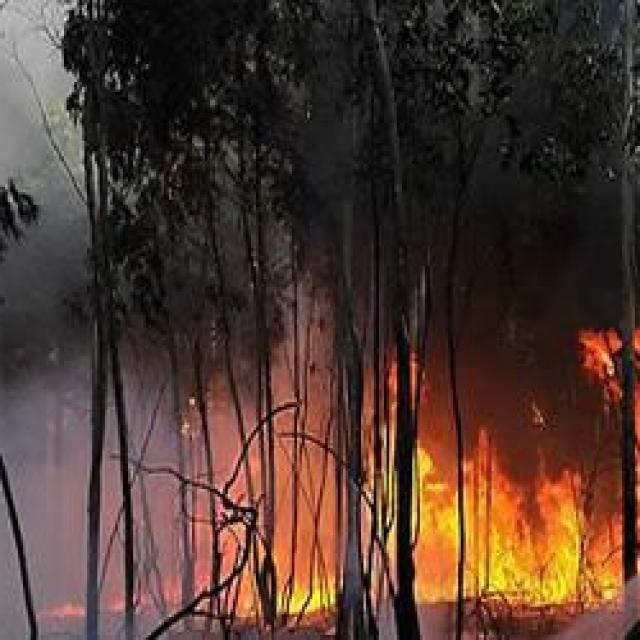fire: (404, 446, 600, 610)
smoke: (0, 8, 77, 276)
